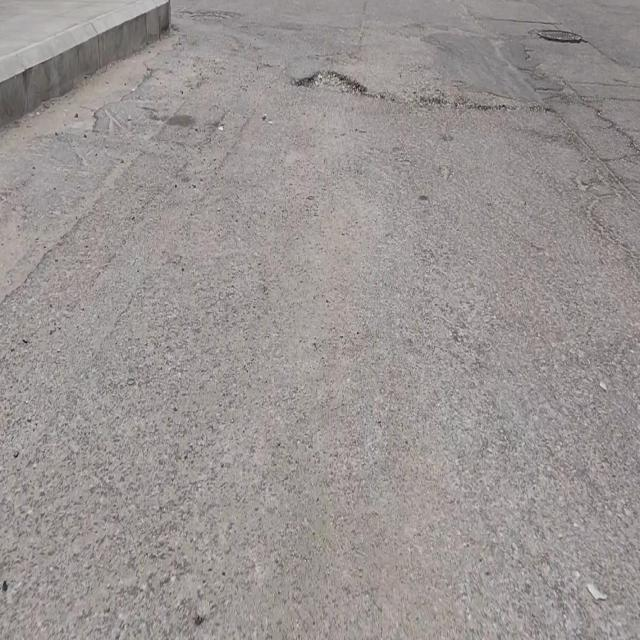Potholes: (294, 66, 368, 98)
